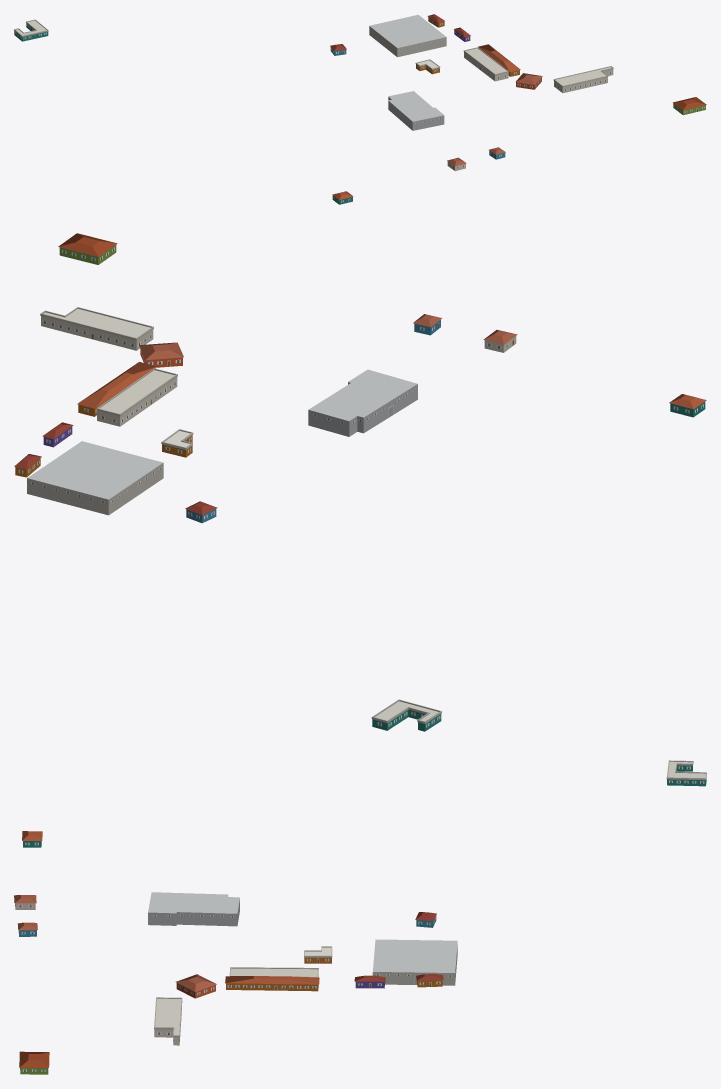
Rendered from msb_sannicolas_16_22.glb.
The picture shows the model from 3 angles, top to bottom: view 1: azimuth 30°, elevation 25°; view 2: azimuth 150°, elevation 25°; view 3: azimuth 270°, elevation 25°; orthographic projection. The views are drawn at different scales.
Visible parts, largest first — view 1: msb_sannicolas_16_22_lod0; view 2: msb_sannicolas_16_22_lod0; view 3: msb_sannicolas_16_22_lod0.
Boxes of the visible parts, <box> form: msb_sannicolas_16_22_lod0: <box>14,14,706,204</box>; msb_sannicolas_16_22_lod0: <box>14,233,706,731</box>; msb_sannicolas_16_22_lod0: <box>14,760,706,1074</box>.
Size of what is drawn, in the model's own units: 322 by 14.47 by 314.
3 materials, 1 textured.
